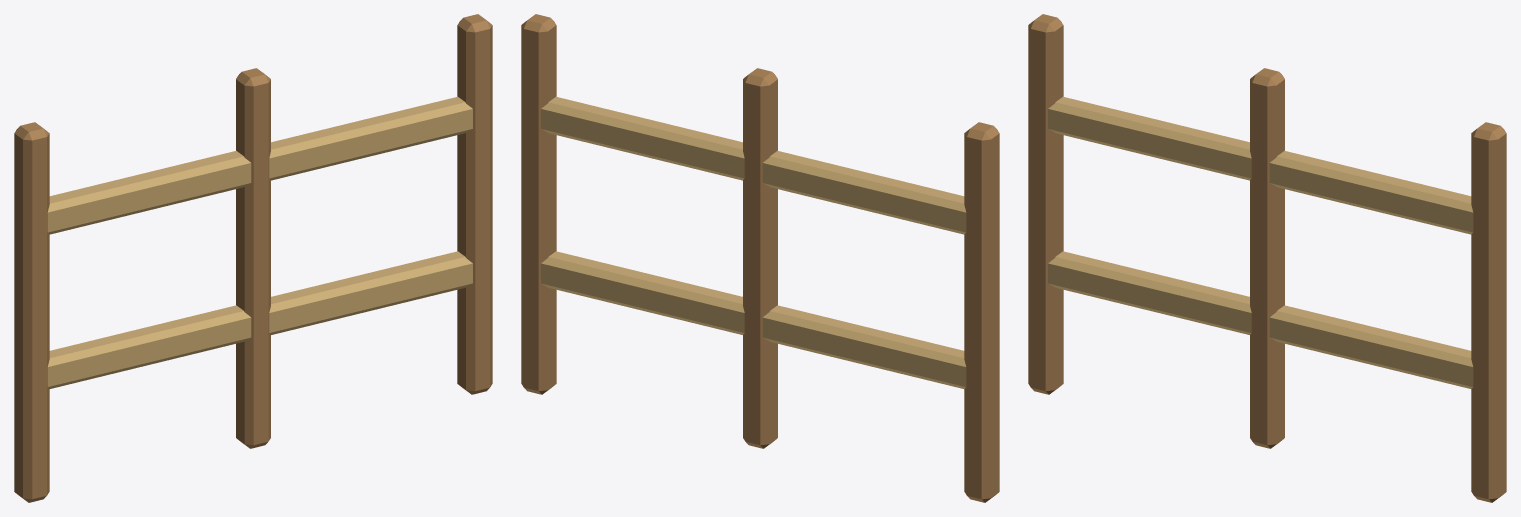
File: fence.glb
The picture shows the model from 3 angles, left to right: view 1: azimuth 30°, elevation 25°; view 2: azimuth 150°, elevation 25°; view 3: azimuth 330°, elevation 25°; orthographic projection.
Visible parts, largest first — view 1: fence; view 2: fence; view 3: fence.
Boxes of the visible parts, <box> form: fence: <box>14,14,492,502</box>; fence: <box>521,14,999,502</box>; fence: <box>1028,14,1506,502</box>.
Bounding box in the file's own units: 1.59 × 1.2 × 0.09.
